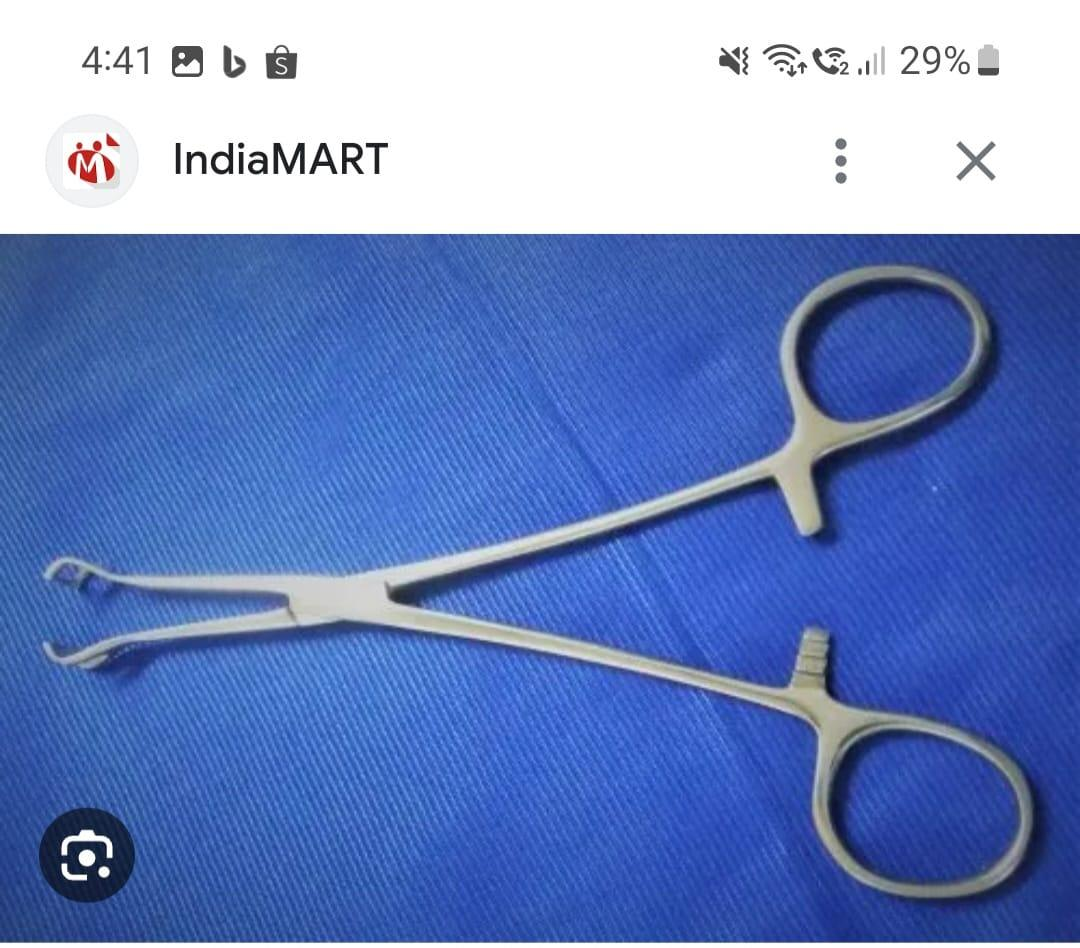Babcock Forceps: (39, 260, 1056, 916)
